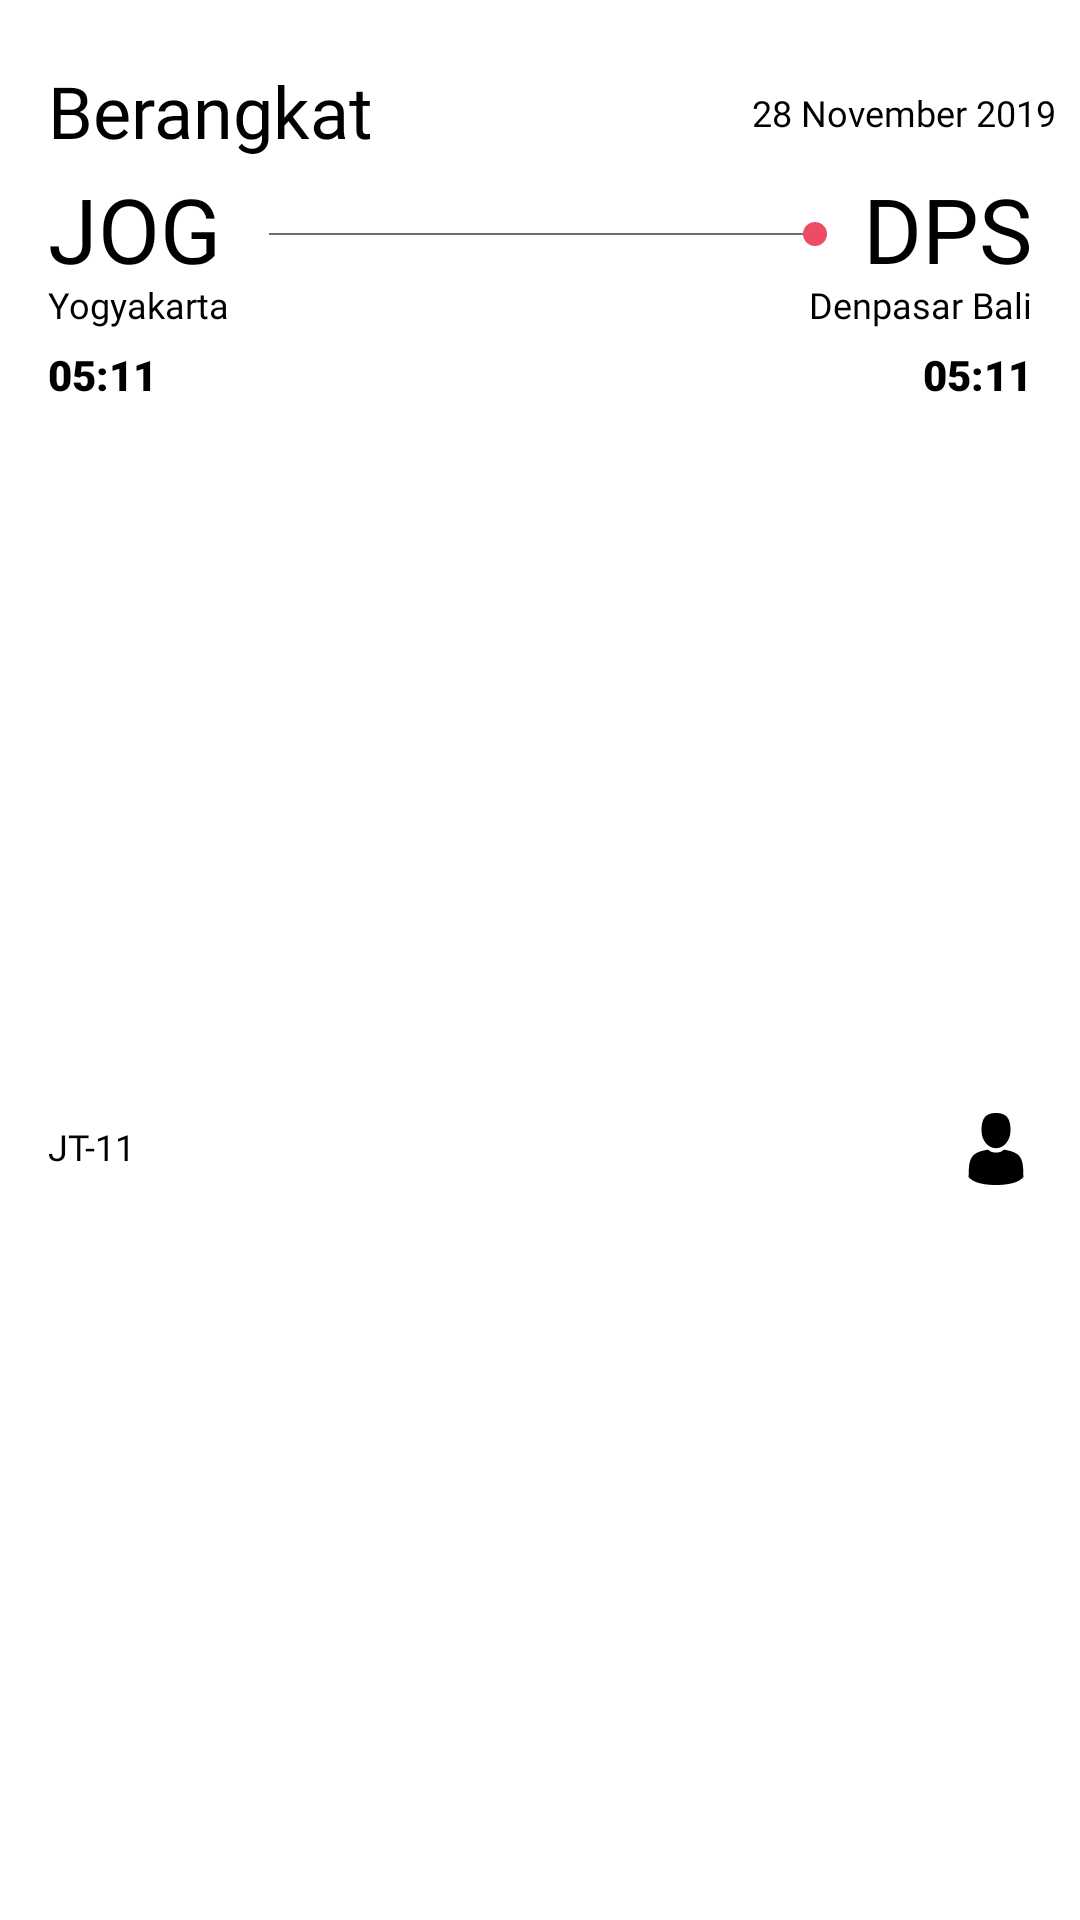

Where icons sit on this 1080w x 1920h app screen, as (x1, y1, x2, y2):
profile: (968, 1113, 1024, 1185)
